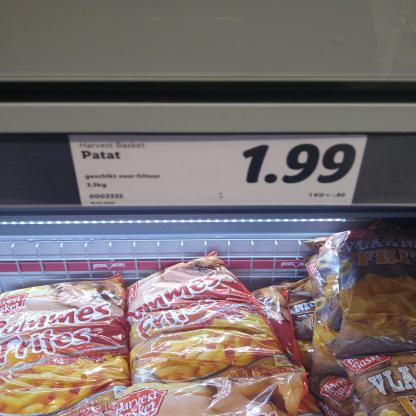prtg: (69, 135, 369, 207)
